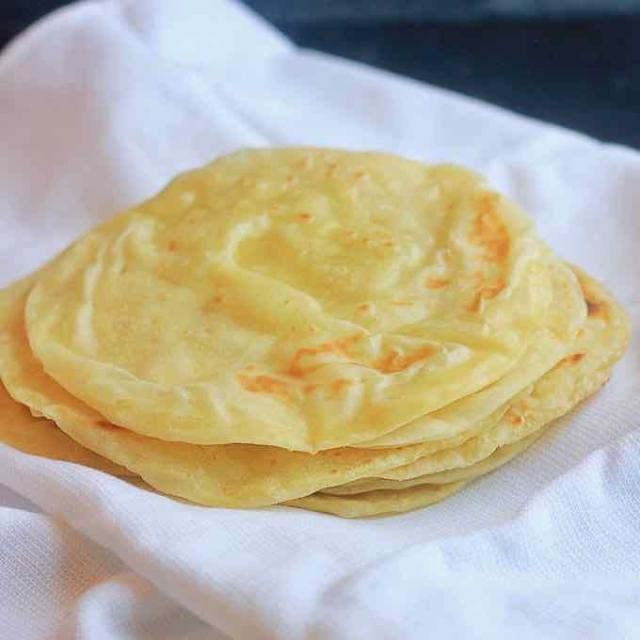CHAPATHI: (0, 149, 639, 521)
